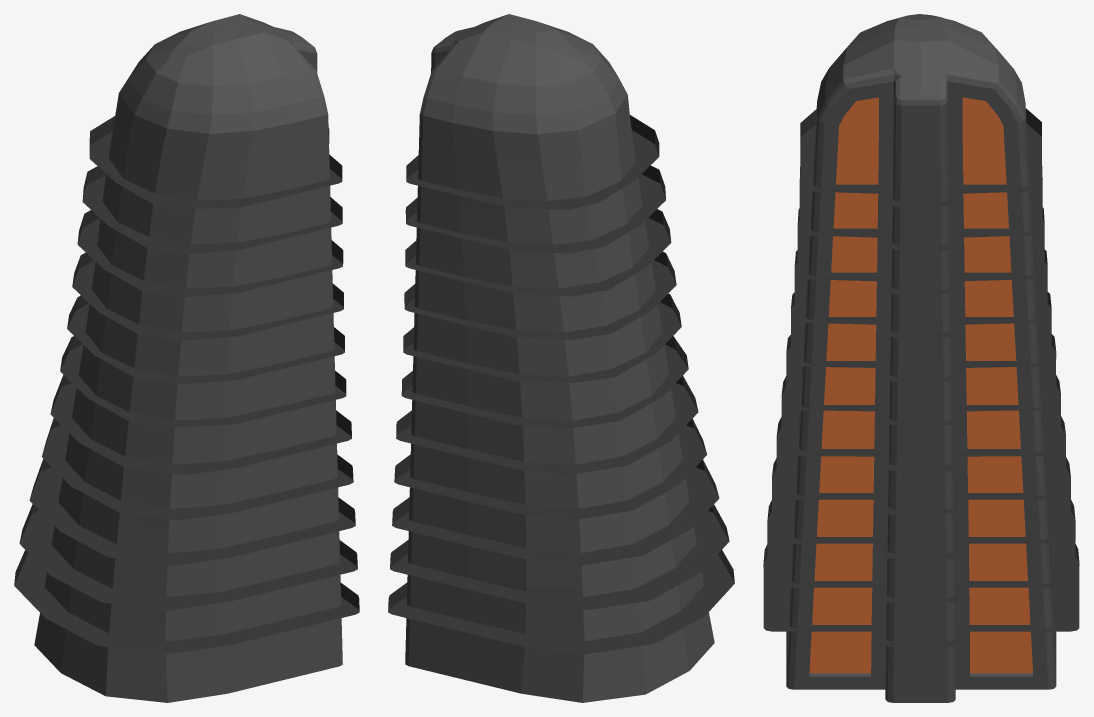
Rendered from Дом 4.fbx.
3 renders of one model, left to right at view 1: azimuth 30°, elevation 25°; view 2: azimuth 150°, elevation 25°; view 3: azimuth 270°, elevation 25°, orthographic. The views are drawn at different scales.
Visible parts, largest first — view 1: Retopo_Cube, Retopo_Cube.001; view 2: Retopo_Cube, Retopo_Cube.001; view 3: Retopo_Cube, Retopo_Cube.001.
Boxes of the visible parts, bbox=[...] form: Retopo_Cube: bbox=[34, 14, 342, 702]; Retopo_Cube.001: bbox=[14, 116, 359, 654]; Retopo_Cube: bbox=[405, 14, 714, 702]; Retopo_Cube.001: bbox=[388, 115, 734, 654]; Retopo_Cube: bbox=[786, 14, 1056, 702]; Retopo_Cube.001: bbox=[763, 108, 1079, 646].
Size of the model in its own units: 1103 by 2316 by 1046.
